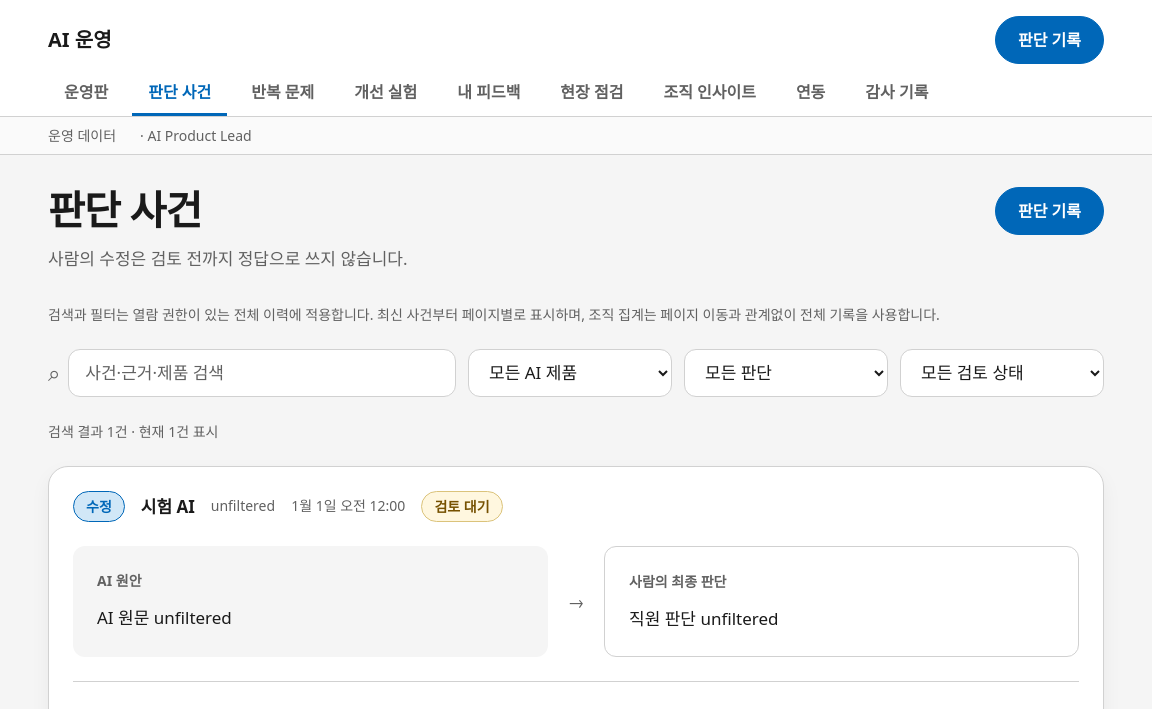
Scenario: treats the literal search word all as a query rather than a filter sentinel
Expected: the text "AI 원문 unfiltered" is shown, [97,606,232,629]
Type "all" into the field with placeholder "사건·근거·제품 검색" at (262, 373), box [68,349,456,397]
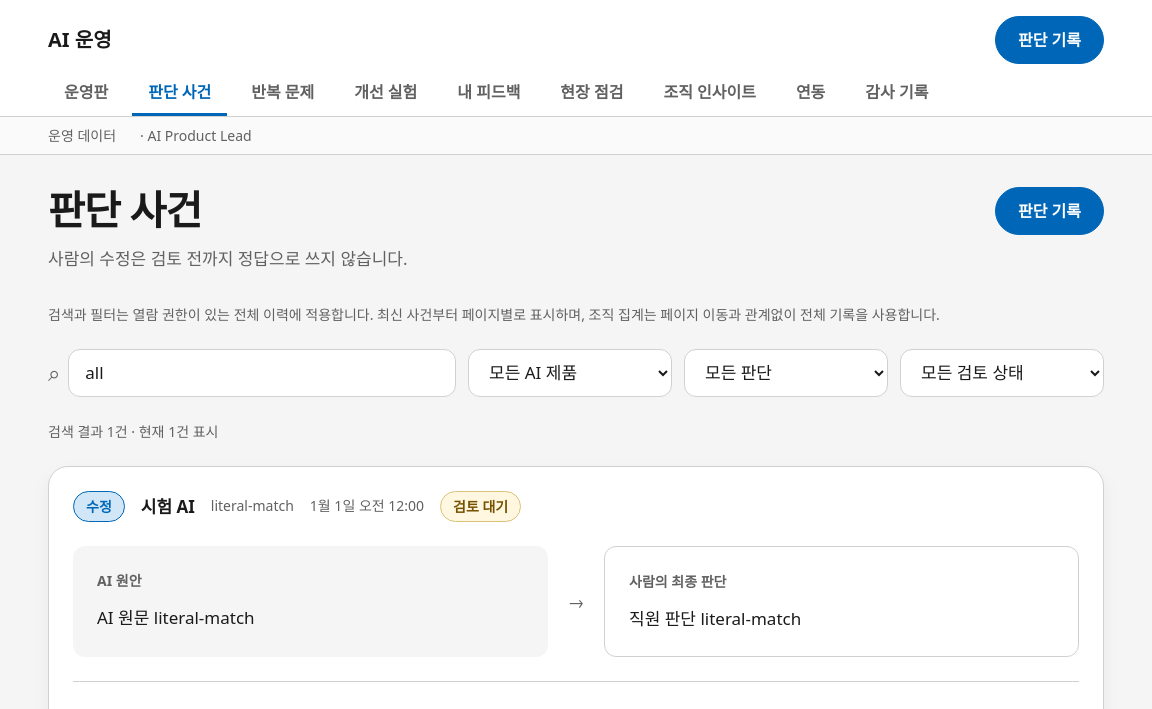
Now the text "AI 원문 literal-match" is shown, box [97,606,255,629]
